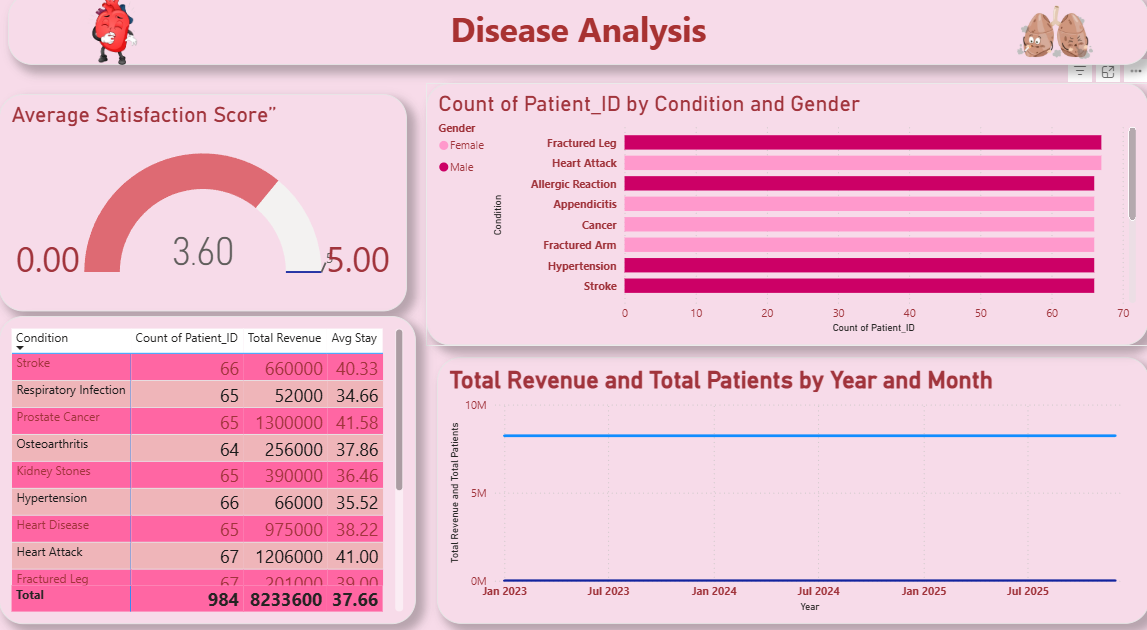

What the dashboard file says about the page in this screenshot:
{"tool":"powerbi","page":{"name":" DISEASE ANALYSIS","canvas":[1280,720],"ordinal":1},"visuals":[{"type":"lineChart","fields":{"Y":["hospital data analysis.Total Revenue","hospital data analysis.Total Patients"],"Category":["Calendar.Date.Variation.Date Hierarchy.Year","Calendar.Date.Variation.Date Hierarchy.Month"]},"box":[487,405.4,793,297.1],"z":0},{"type":"barChart","fields":{"Series":["hospital data analysis.Gender"],"Category":["hospital data analysis.Condition"],"Y":["CountNonNull(hospital data analysis.Patient_ID)"]},"box":[475.5,100.7,804.5,292],"z":1000},{"type":"textbox","box":[10.2,0,1269.8,80.3],"z":2000},{"type":"gauge","title":"Average Satisfaction Score”","fields":{"TargetValue":["Calendar.Target"],"Y":["Calendar.Avg Satisfaction"]},"box":[0,112.2,453.9,242.2],"z":3000},{"type":"pivotTable","fields":{"Values":["CountNonNull(hospital data analysis.Patient_ID)","hospital data analysis.Total Revenue","hospital data analysis.Avg Stay"],"Rows":["hospital data analysis.Condition"]},"box":[0,359.5,464.1,342.9],"z":4000},{"type":"image","box":[1092.6,0,165.7,91.8],"z":5000},{"type":"image","box":[22.9,0,204,80.3],"z":6000}]}

Visuals, with their boxes in screenshot pixels (x1, y1, x2, y2), scaled from the page's 1280x720 canvas onto the 1147x630 screenshot:
lineChart - hospital data analysis.Total Revenue x hospital data analysis.Total Patients: bbox(436, 355, 1146, 615)
barChart - hospital data analysis.Gender x hospital data analysis.Condition: bbox(426, 88, 1146, 344)
textbox: bbox(9, 0, 1146, 70)
"Average Satisfaction Score”" gauge: bbox(0, 98, 407, 310)
pivotTable - CountNonNull(hospital data analysis.Patient_ID) x hospital data analysis.Total Revenue: bbox(0, 315, 416, 615)
image: bbox(979, 0, 1128, 80)
image: bbox(21, 0, 203, 70)
